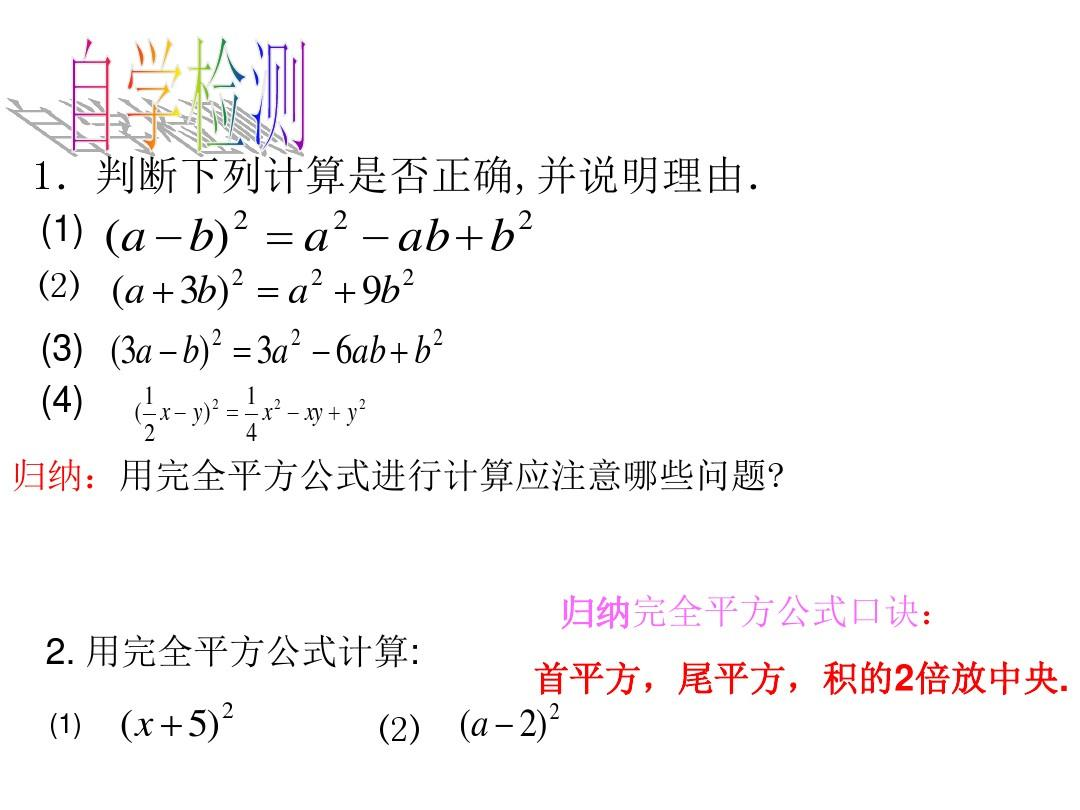division: (241, 405, 257, 419), (140, 410, 156, 420)
square: (327, 203, 354, 231), (513, 206, 537, 234), (425, 321, 446, 351), (208, 322, 228, 352), (229, 206, 248, 235), (283, 325, 304, 350), (309, 264, 324, 292), (228, 266, 245, 289), (548, 700, 563, 725), (220, 700, 235, 723), (402, 263, 415, 289), (210, 389, 219, 415), (356, 395, 367, 411), (270, 398, 282, 410)
